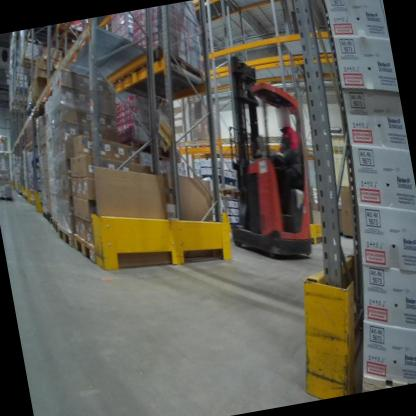forklift: (192, 37, 332, 279)
pallet: (71, 214, 177, 281), (142, 37, 203, 95), (53, 18, 94, 45), (212, 177, 247, 207), (17, 50, 51, 73), (55, 221, 77, 250), (48, 213, 59, 236), (0, 190, 15, 205), (40, 209, 49, 225)
